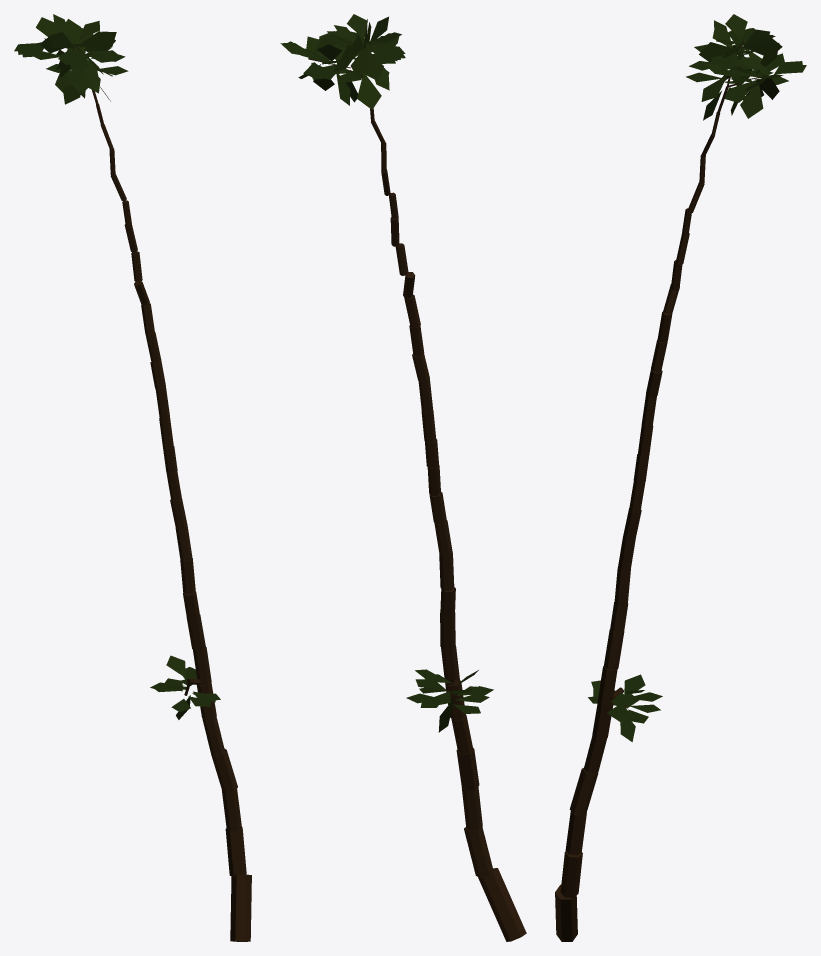
The model's file is 2022_tree_335.obj.
3 views of the same model, side by side, from view 1: azimuth 90°, elevation 25°; view 2: azimuth 150°, elevation 25°; view 3: azimuth 270°, elevation 25° (orthographic). The views are drawn at different scales.
Parts seen in each view (by area): view 1: TrunkAndBranches, Leaves; view 2: TrunkAndBranches, Leaves; view 3: TrunkAndBranches, Leaves.
Boxes of the visible parts, x1,y1,x2,y2 form: TrunkAndBranches: (44,38,251,941); Leaves: (14,14,220,719); TrunkAndBranches: (308,42,526,941); Leaves: (280,14,493,732); TrunkAndBranches: (555,41,774,941); Leaves: (588,14,806,742).
Size of the model in its own units: 1.2 by 7.94 by 1.91.
